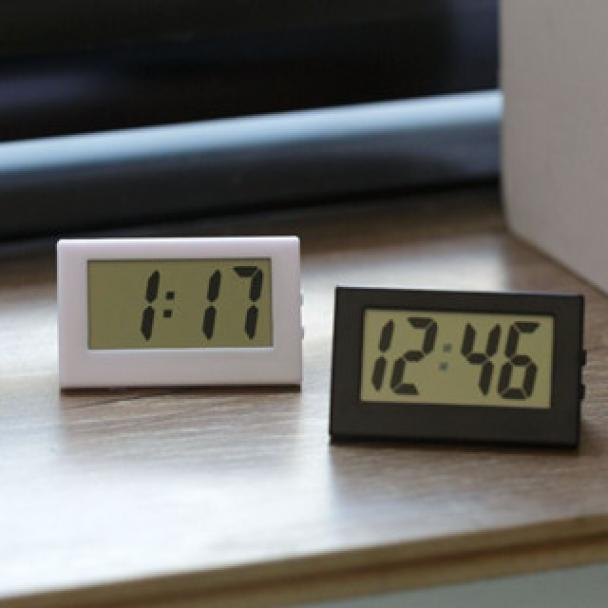Jam: (336, 286, 585, 447), (54, 240, 304, 390)
